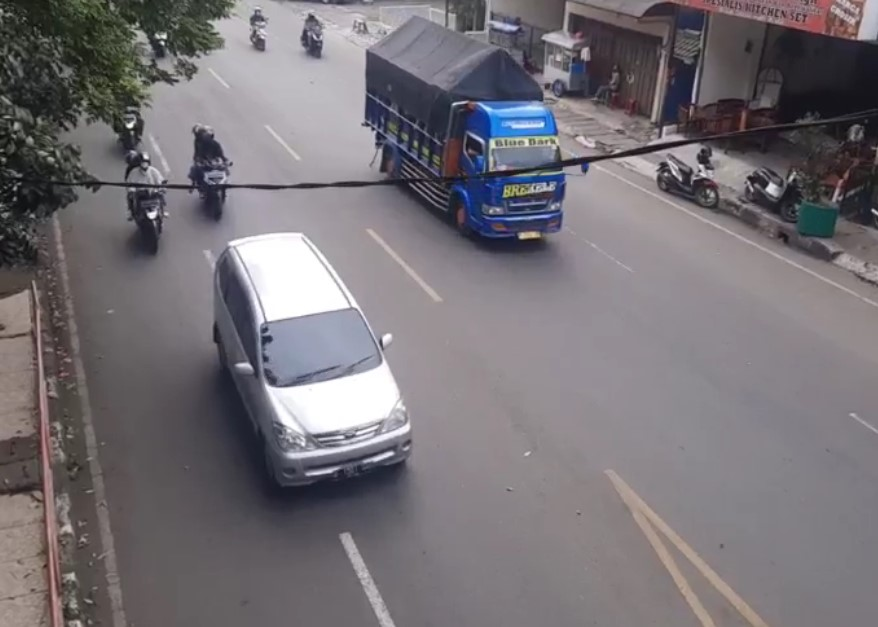mobil: (254, 306, 414, 494), (482, 132, 565, 249)
motor: (114, 154, 171, 254), (183, 125, 239, 216), (298, 12, 328, 61), (243, 8, 273, 51)
